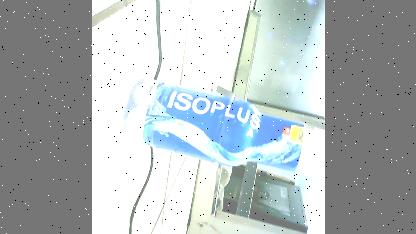Plastic Bottle: (122, 78, 324, 179)
